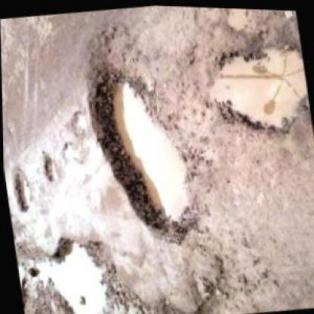Hueco: (73, 13, 213, 247), (196, 34, 312, 142), (186, 265, 226, 313), (8, 165, 34, 213), (222, 6, 252, 32), (67, 108, 89, 138), (40, 152, 59, 183), (59, 139, 81, 164)
